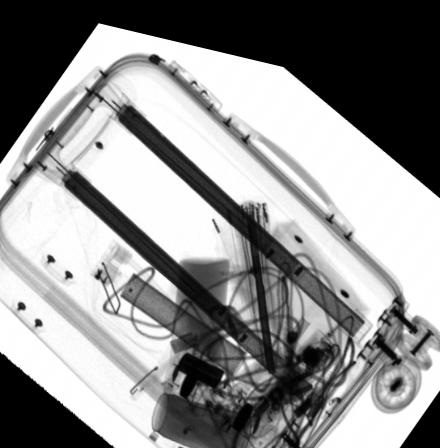Lighter: (175, 344, 224, 378)
